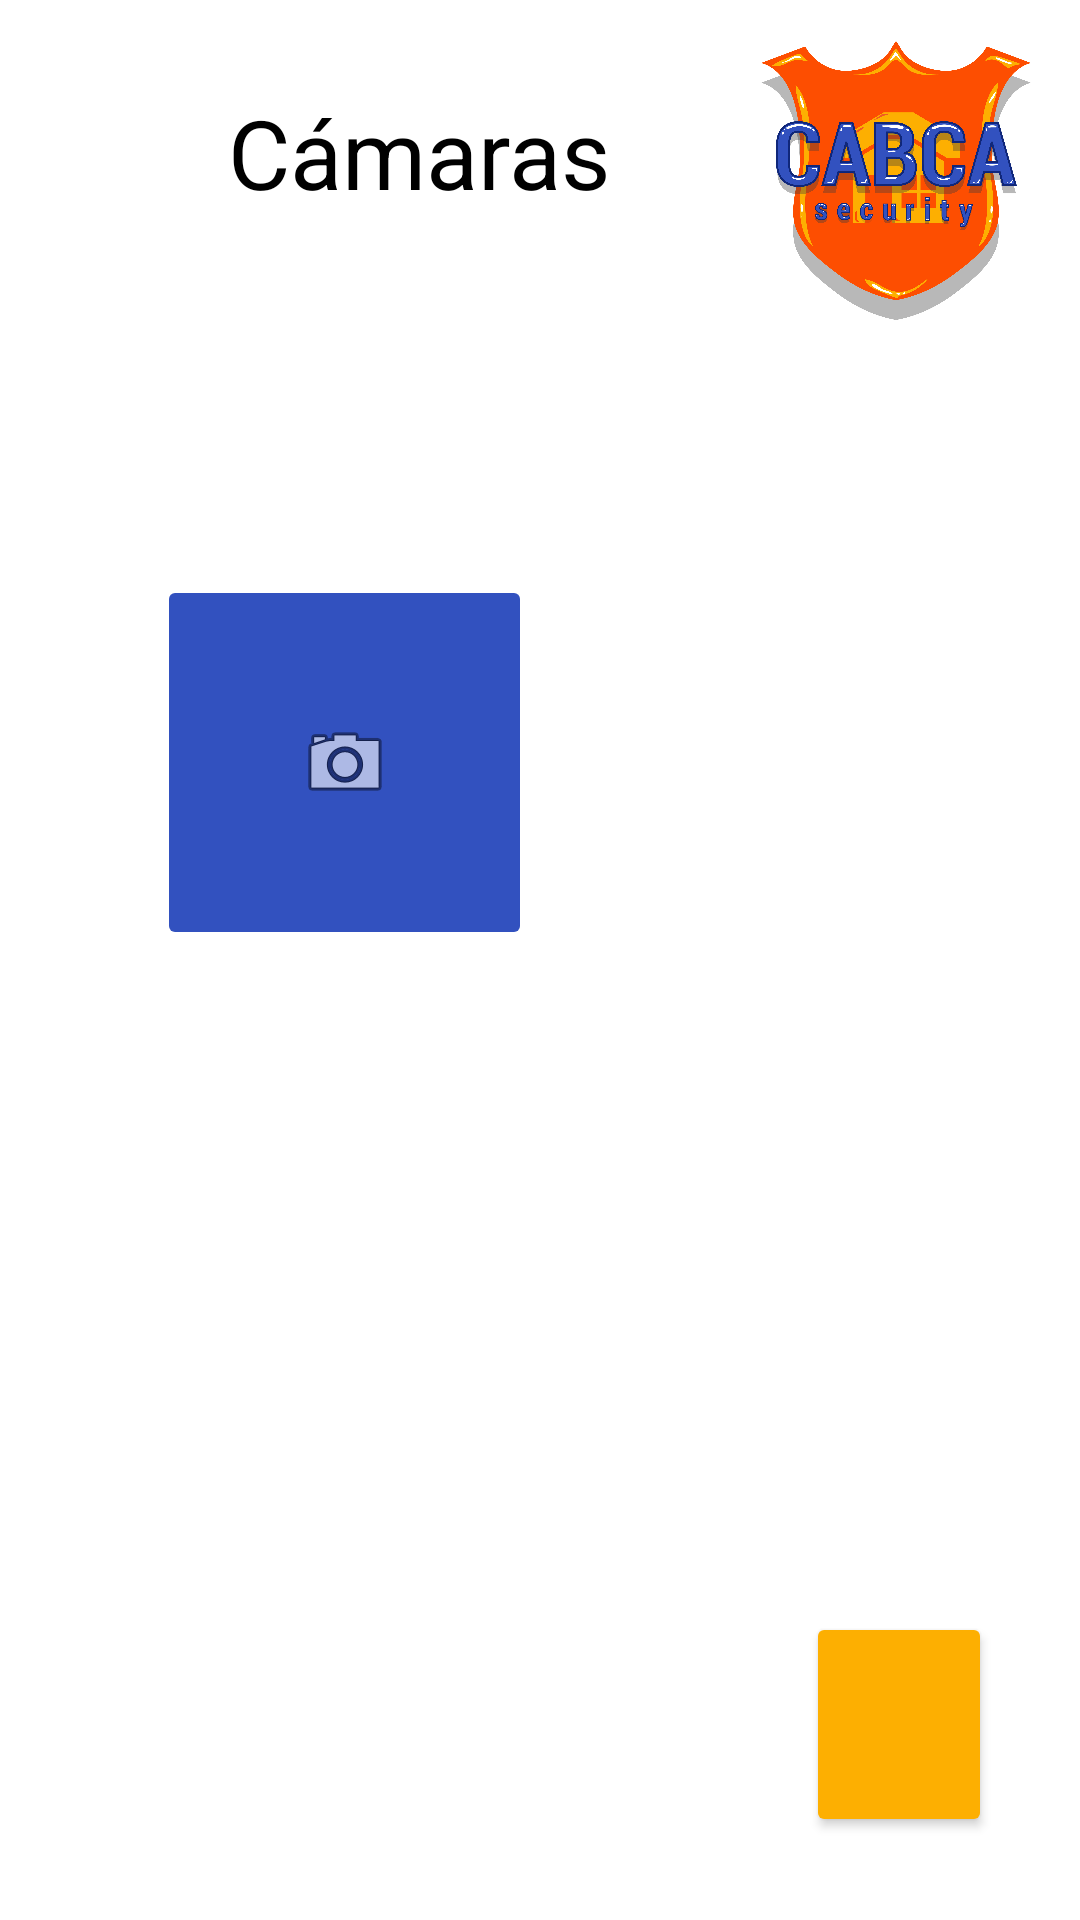

Icons on this 1080 x 1920 Android screen, each with the point to tap as (x=x, y=y):
Función camaras: (x=344, y=762)
